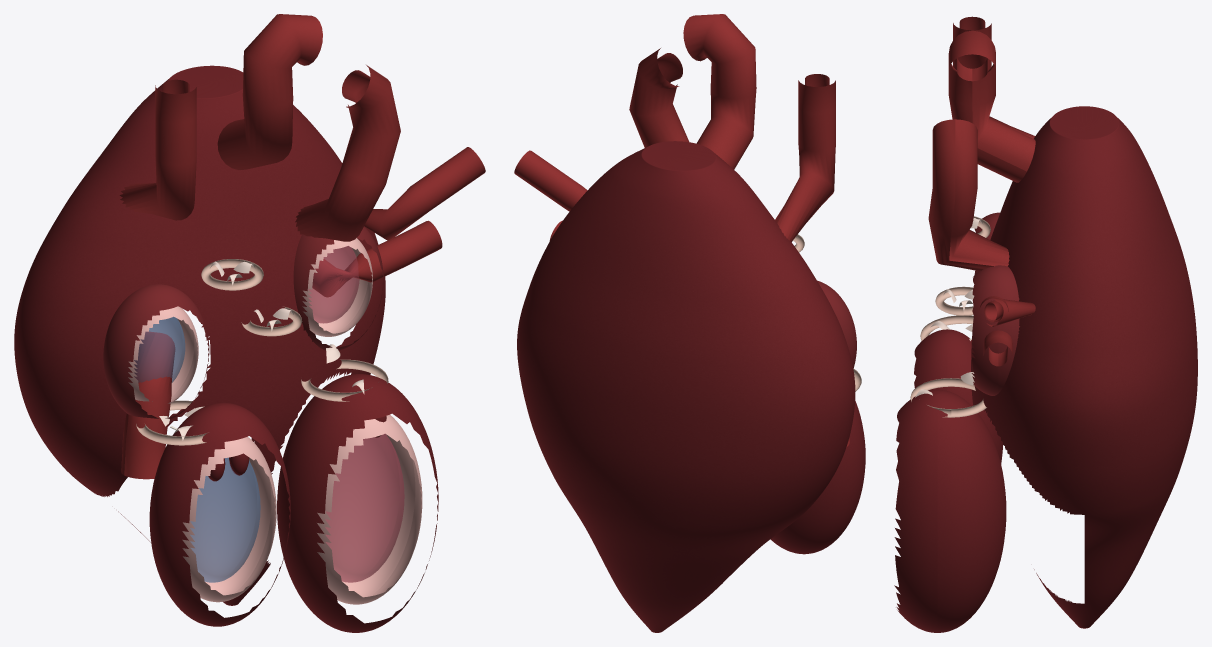
File: heart_segmented_mitral_leaky.glb
The picture shows the model from 3 angles, left to right: view 1: azimuth 30°, elevation 25°; view 2: azimuth 150°, elevation 25°; view 3: azimuth 270°, elevation 25°; orthographic projection. The views are drawn at different scales.
Parts seen in each view (by area): view 1: HeartBody, WallLV, WallRV, Aorta, PulmonaryTrunk, BloodLV, WallRA, SVC, BloodRV, WallLA, IVC, PulmonaryVeinL (+7 smaller); view 2: HeartBody, Aorta, SVC, WallRV, PulmonaryTrunk, PulmonaryVeinL, WallRA; view 3: HeartBody, WallLV, PulmonaryTrunk, Aorta, WallLA, WallRV, PulmonaryVeinL, AnnulusMitral, SVC, PulmonaryVeinR, AnnulusPulmonary, AnnulusTricuspid.
Part boxes in pixels (x1=…): HeartBody: x1=14, y1=65, x2=385, y2=605; WallLV: x1=277, y1=374, x2=438, y2=632; WallRV: x1=149, y1=402, x2=290, y2=626; Aorta: x1=217, y1=14, x2=322, y2=169; PulmonaryTrunk: x1=295, y1=65, x2=400, y2=241; BloodLV: x1=325, y1=434, x2=404, y2=582; WallRA: x1=103, y1=284, x2=209, y2=419; SVC: x1=119, y1=79, x2=196, y2=220; BloodRV: x1=190, y1=457, x2=260, y2=582; WallLA: x1=293, y1=226, x2=383, y2=350; IVC: x1=121, y1=331, x2=175, y2=479; PulmonaryVeinL: x1=364, y1=147, x2=485, y2=240; HeartBody: x1=517, y1=141, x2=855, y2=632; Aorta: x1=683, y1=14, x2=756, y2=169; SVC: x1=775, y1=74, x2=835, y2=242; WallRV: x1=770, y1=401, x2=865, y2=554; PulmonaryTrunk: x1=629, y1=48, x2=689, y2=147; PulmonaryVeinL: x1=514, y1=150, x2=587, y2=211; WallRA: x1=817, y1=280, x2=856, y2=368; HeartBody: x1=971, y1=106, x2=1197, y2=628; WallLV: x1=894, y1=389, x2=1006, y2=632; PulmonaryTrunk: x1=928, y1=119, x2=1009, y2=271; Aorta: x1=948, y1=30, x2=1035, y2=182; WallLA: x1=971, y1=265, x2=1019, y2=395; WallRV: x1=914, y1=329, x2=1002, y2=464; PulmonaryVeinL: x1=979, y1=296, x2=1035, y2=326; AnnulusMitral: x1=910, y1=378, x2=986, y2=417; SVC: x1=953, y1=16, x2=1035, y2=138; PulmonaryVeinR: x1=983, y1=330, x2=1012, y2=366; AnnulusPulmonary: x1=935, y1=286, x2=973, y2=315; AnnulusTricuspid: x1=920, y1=315, x2=973, y2=340.
Size of the model in its own units: 0.1023 by 0.1514 by 0.0705.
Materials: 9 (3 with a texture image).
